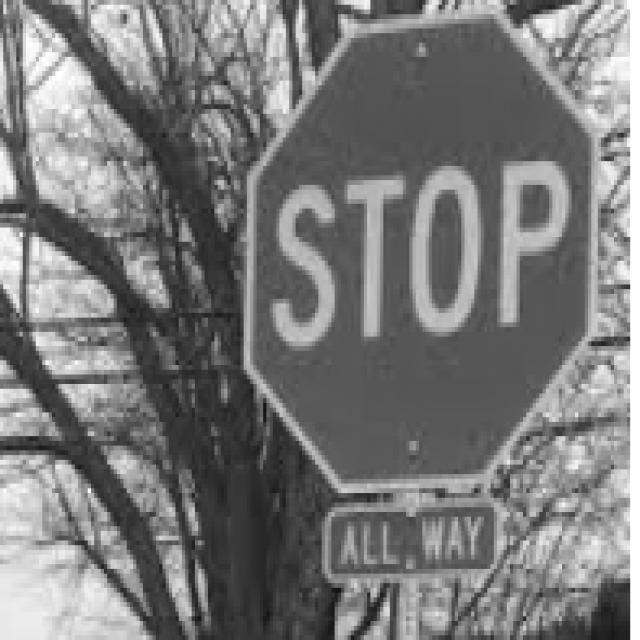Stop-signs: (246, 9, 596, 488)
